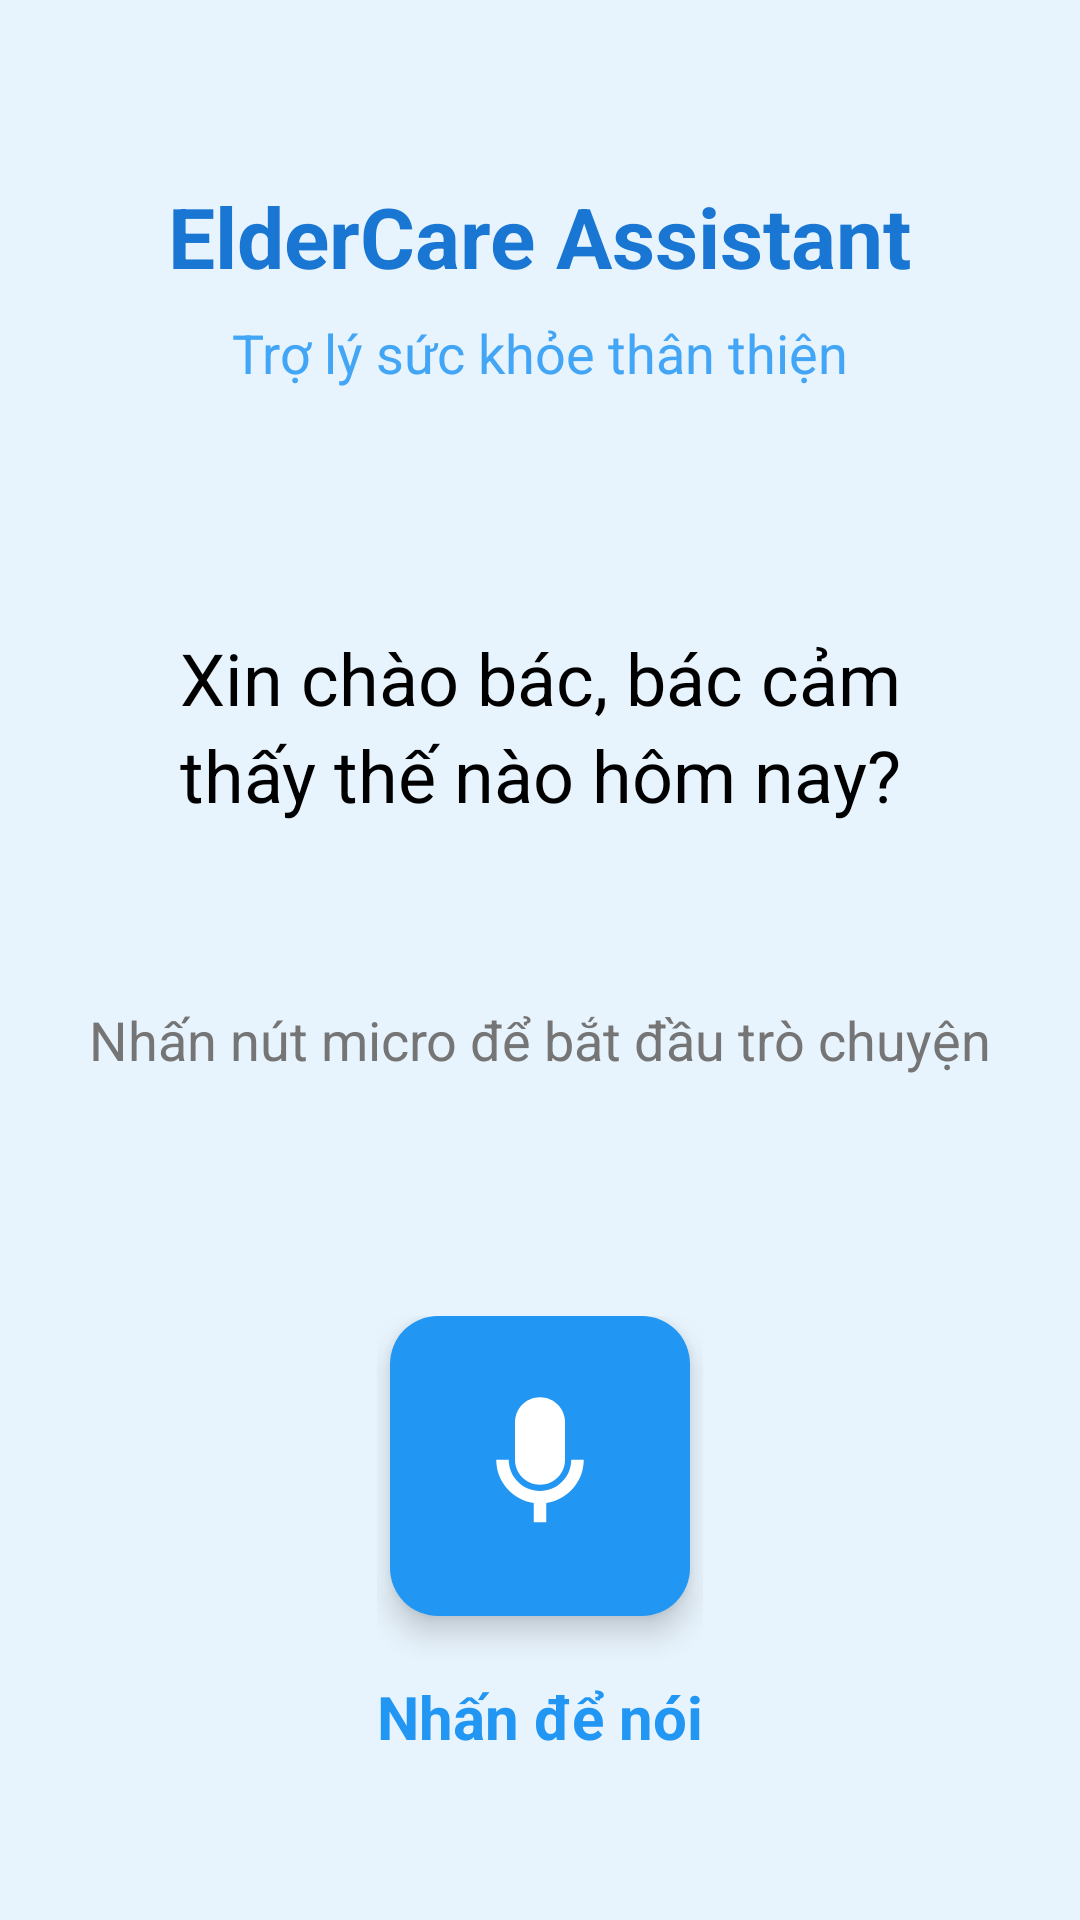

Screen size 1080 × 1920. Icon name, then its box in pixels as (x1, y1, x2, y2):
Nút ghi âm: (390, 1316, 690, 1616)
